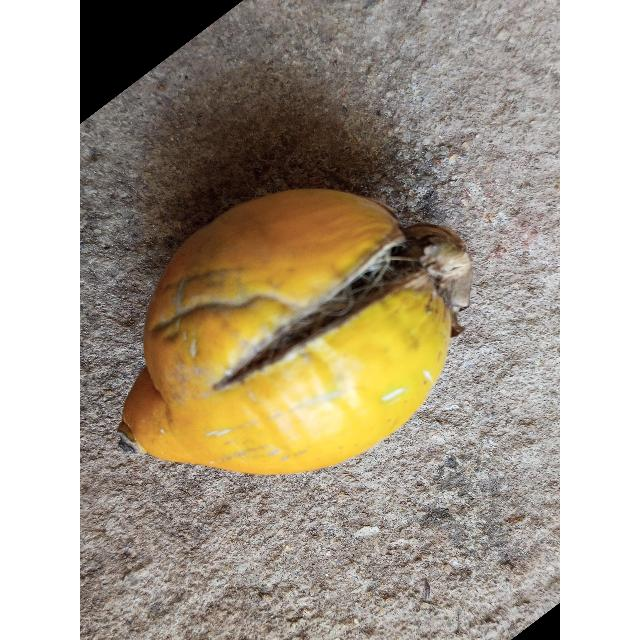damaged: (118, 189, 472, 474)
